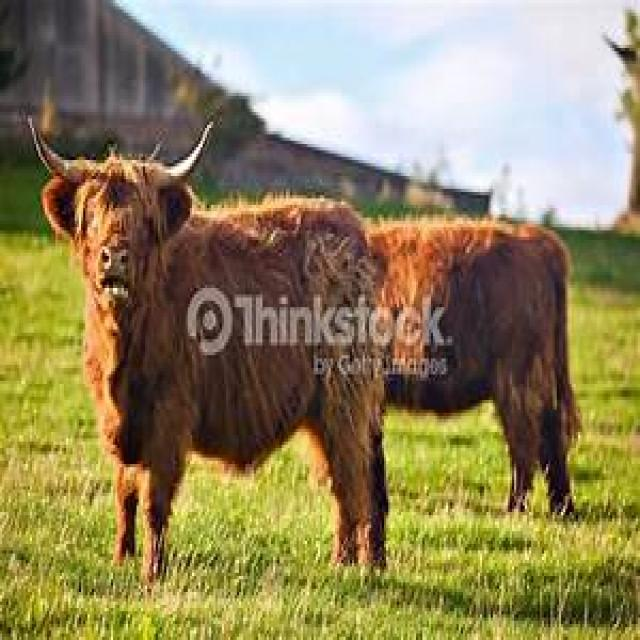cow: (32, 125, 395, 592), (365, 221, 582, 518)
